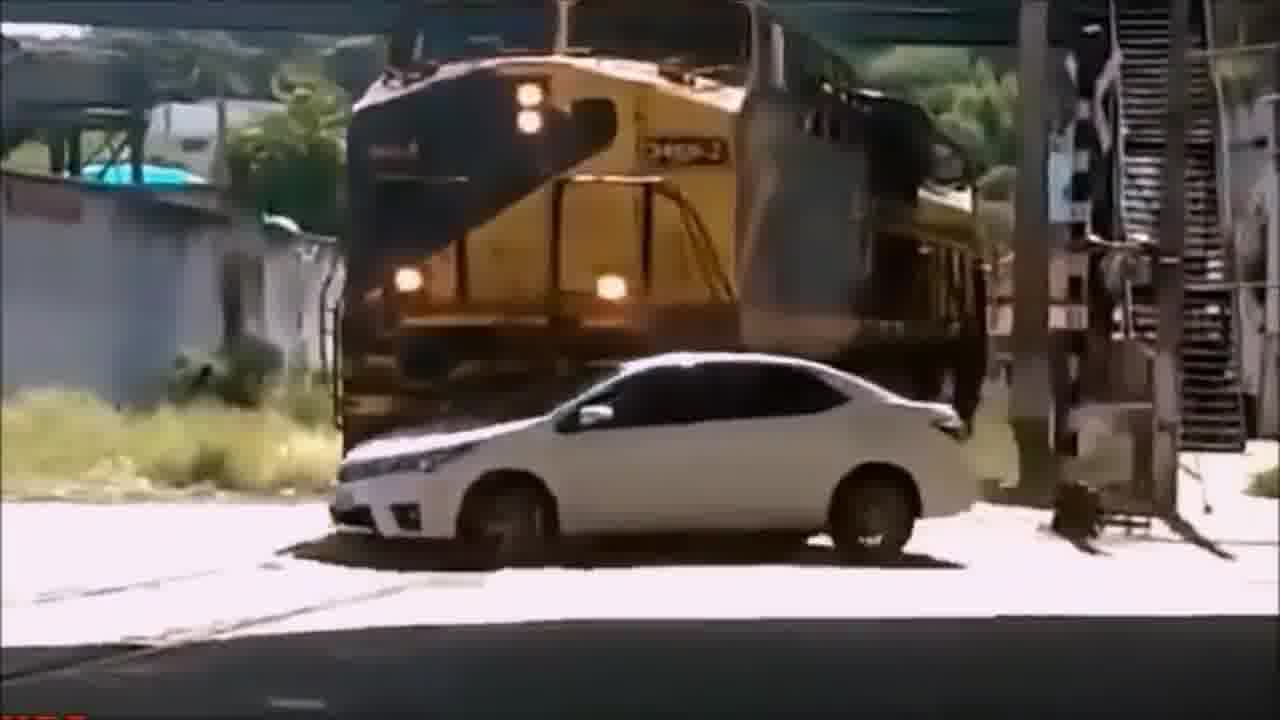crossing railway track: (302, 361, 987, 577)
